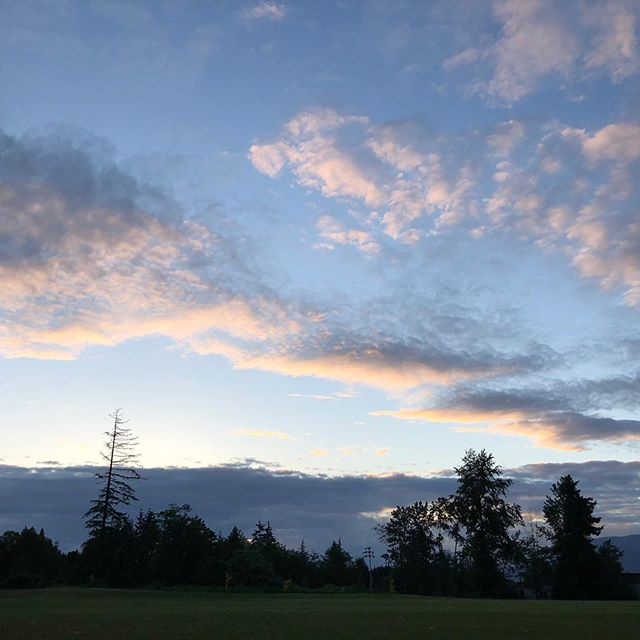sky: (8, 1, 640, 505)
tree: (443, 447, 529, 599), (525, 476, 626, 603), (78, 403, 134, 578), (371, 493, 465, 589)
